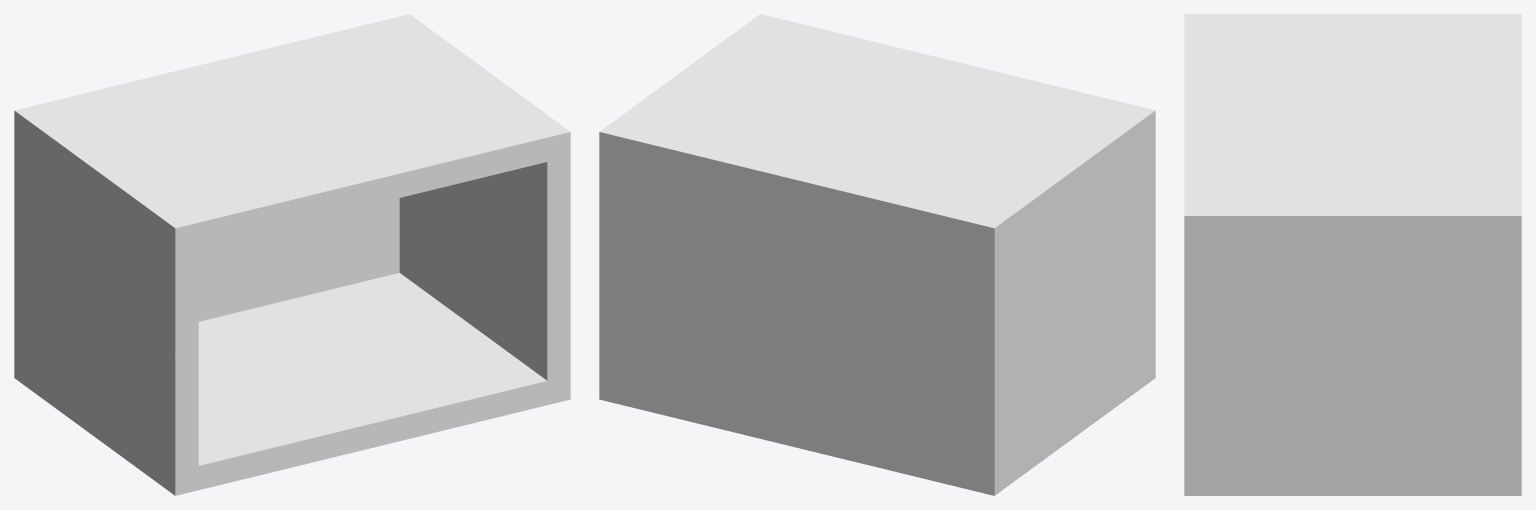
File: AddBox.vox-1.obj
The picture shows the model from 3 angles, left to right: view 1: azimuth 30°, elevation 25°; view 2: azimuth 150°, elevation 25°; view 3: azimuth 270°, elevation 25°; orthographic projection. The views are drawn at different scales.
Bounding box in the file's own units: 1.7 × 1.1 × 1.2.
Materials: 1 (1 with a texture image).
